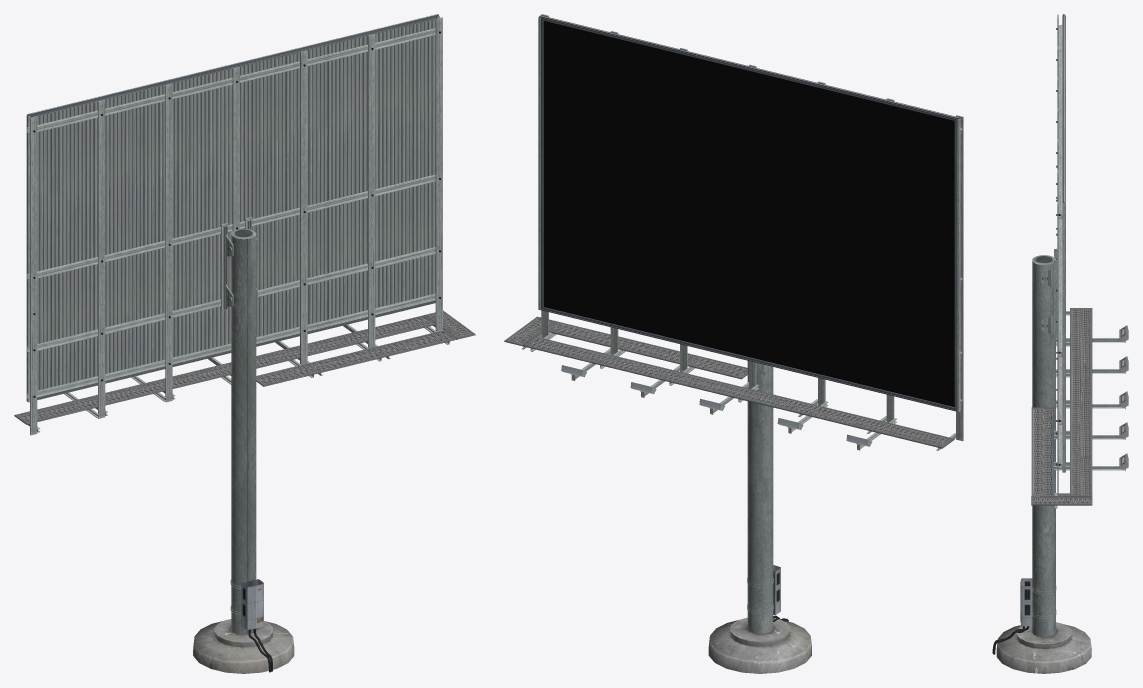
3 views of the same model, side by side, from view 1: azimuth 30°, elevation 25°; view 2: azimuth 150°, elevation 25°; view 3: azimuth 270°, elevation 25° (orthographic). The views are drawn at different scales.
Visible parts, largest first — view 1: untitled; view 2: untitled; view 3: untitled.
Boxes of the visible parts, <box> form: untitled: <box>14,14,475,673</box>; untitled: <box>504,14,963,673</box>; untitled: <box>992,14,1128,673</box>.
Bounding box in the file's own units: 8.72 × 11.18 × 2.53.
